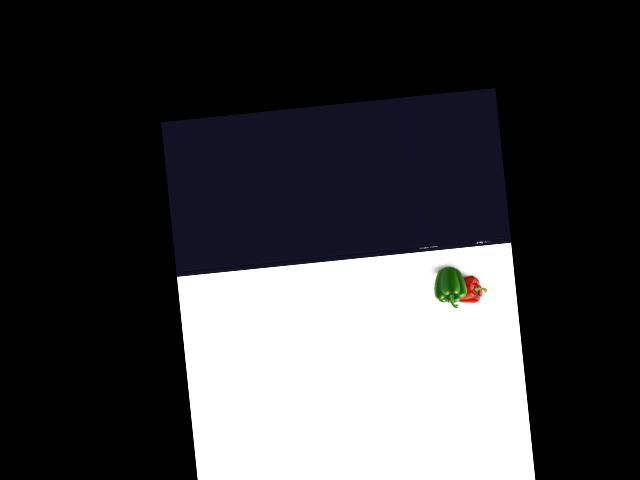bell_pepper: (455, 275, 488, 307)
